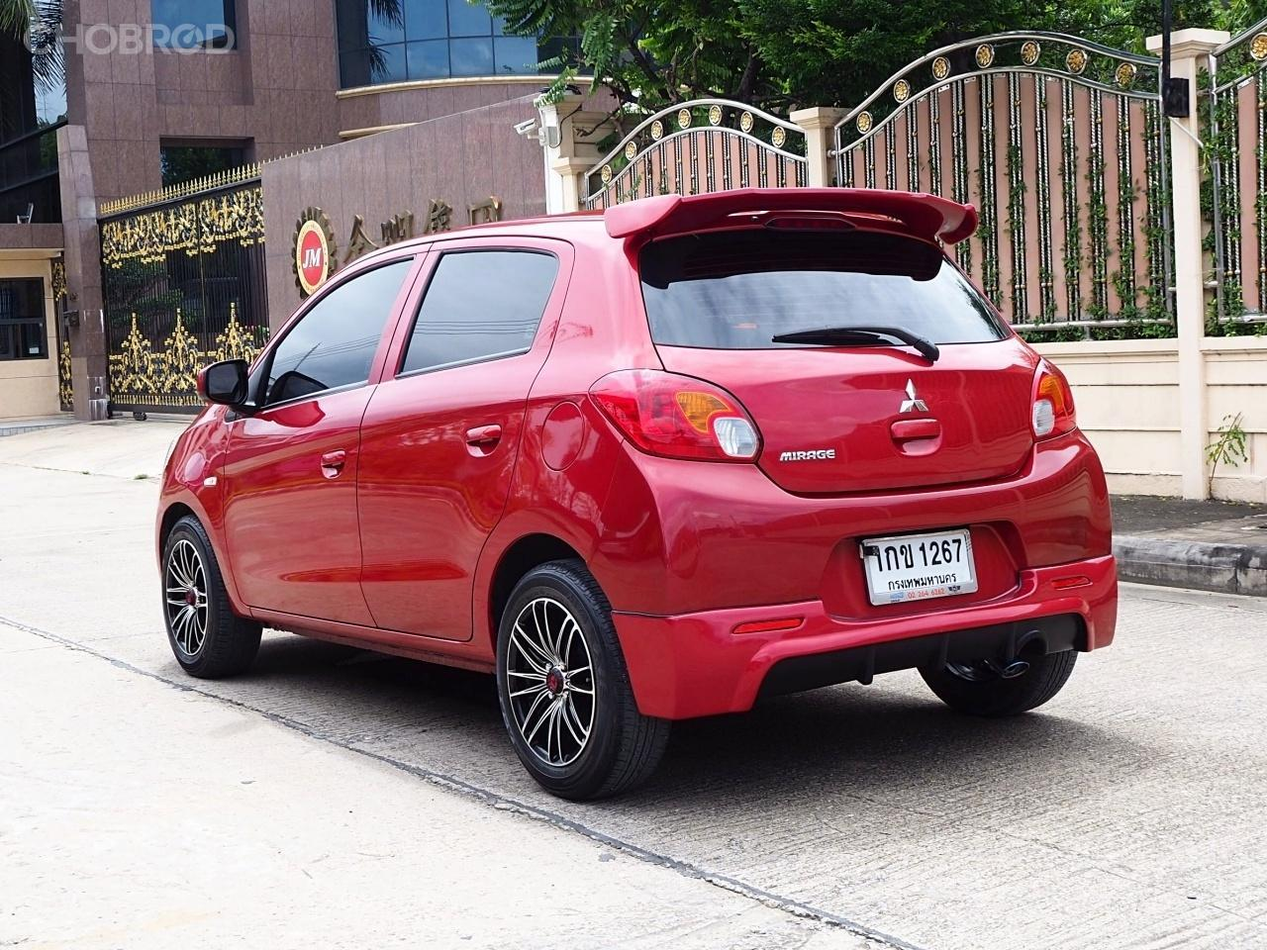license-plate: (859, 524, 989, 615)
